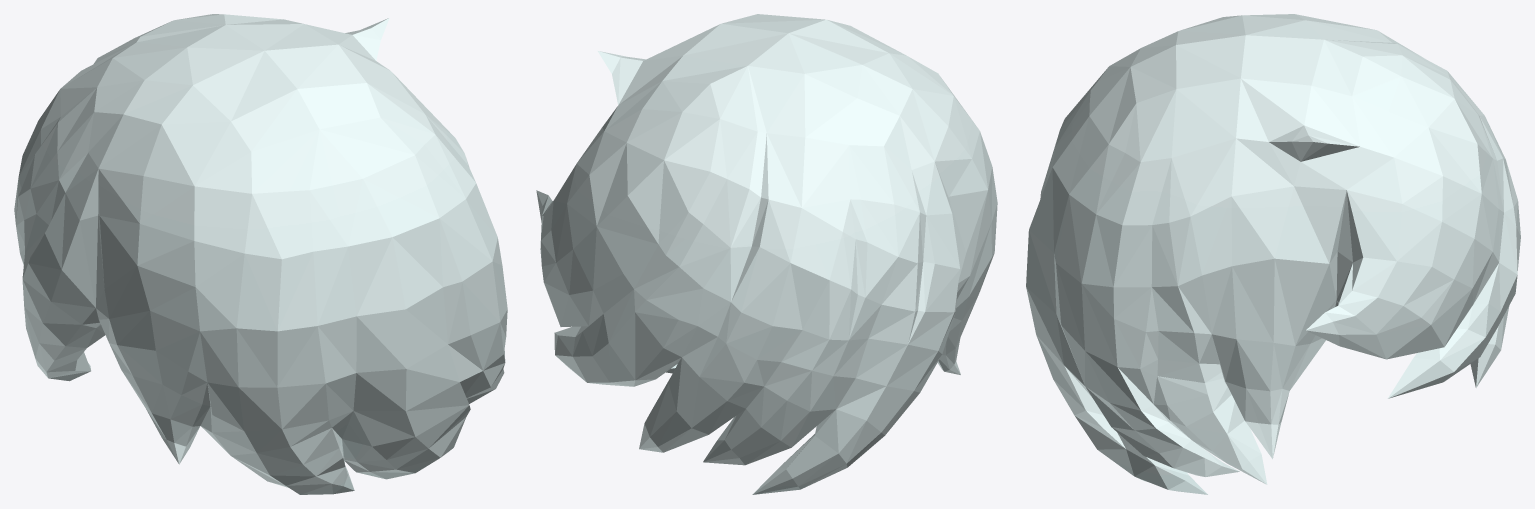
The model's file is CharSkyKid_Hair_AP10LongBangs_01.glb.
The picture shows the model from 3 angles, left to right: view 1: azimuth 30°, elevation 25°; view 2: azimuth 150°, elevation 25°; view 3: azimuth 270°, elevation 25°; orthographic projection. The views are drawn at different scales.
Visible parts, largest first — view 1: CharSkyKid_Hair_AP10LongBangs_01; view 2: CharSkyKid_Hair_AP10LongBangs_01; view 3: CharSkyKid_Hair_AP10LongBangs_01.
Boxes of the visible parts, x1=… form: CharSkyKid_Hair_AP10LongBangs_01: x1=14, y1=14, x2=507, y2=494; CharSkyKid_Hair_AP10LongBangs_01: x1=536, y1=14, x2=997, y2=494; CharSkyKid_Hair_AP10LongBangs_01: x1=1026, y1=14, x2=1520, y2=494.
Bounding box in the file's own units: 3.27 × 3.04 × 3.44.
Materials: 1 (1 with a texture image).
